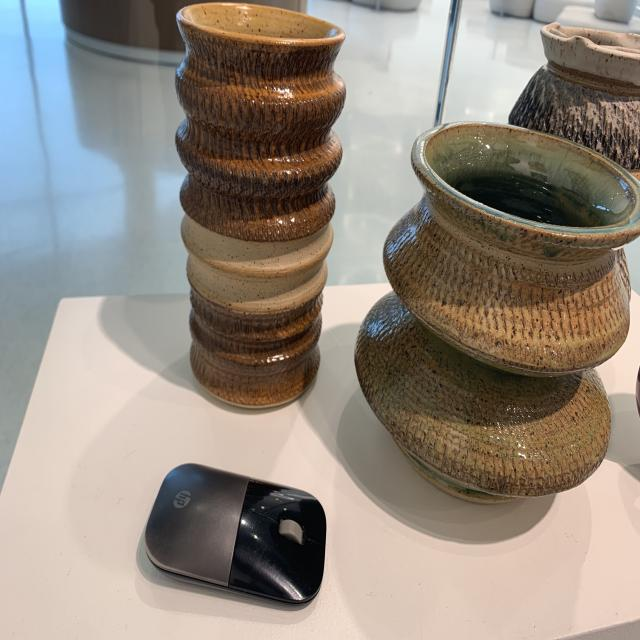Mouse: (140, 453, 339, 615)
